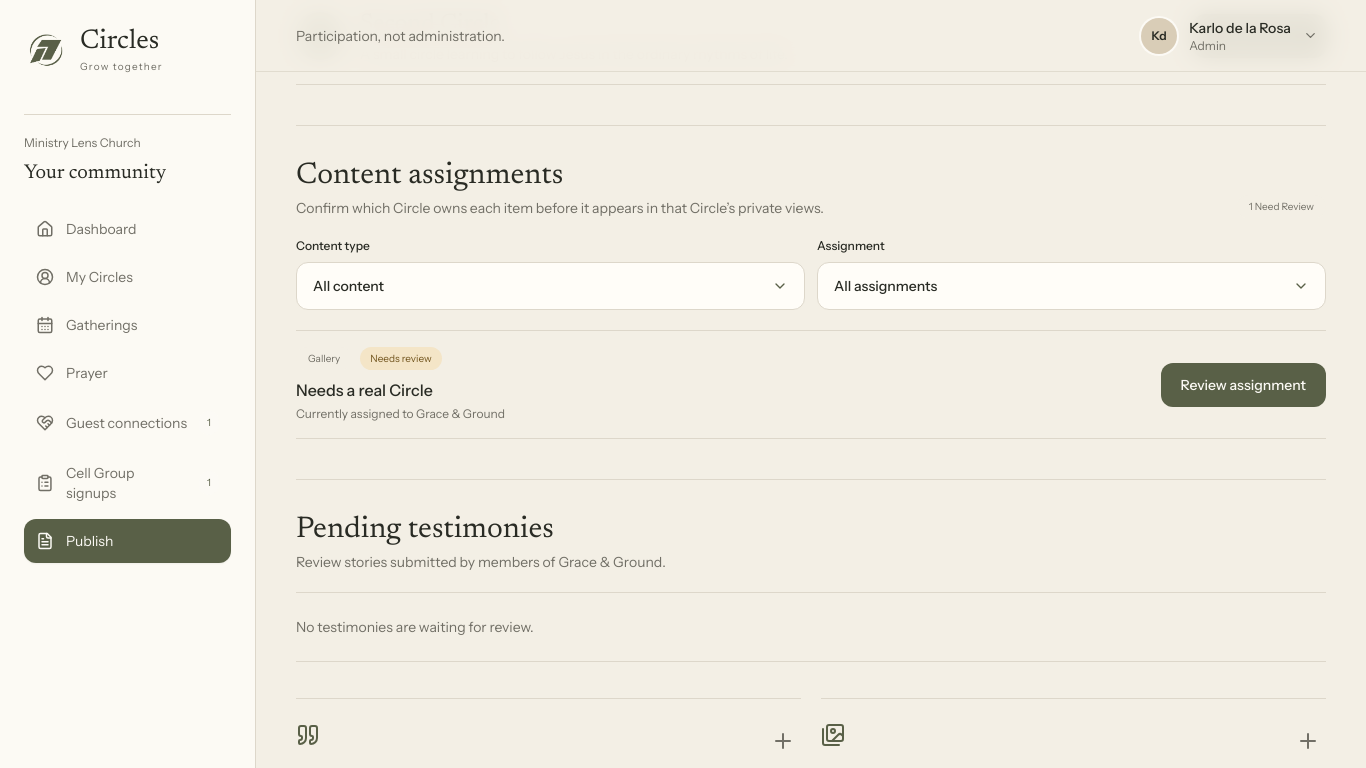
Scenario: Circles MVP › shows admins an assignment review queue and explicit publishing destination
(page scrolled)
Check: the heading "Content assignments" is shown, box [296,161,563,191]
Check: the heading "Needs a real Circle" is shown, box [296,380,433,400]
Click the button "Review assignment". click: [1243, 384]
box: [1161,362,1326,406]
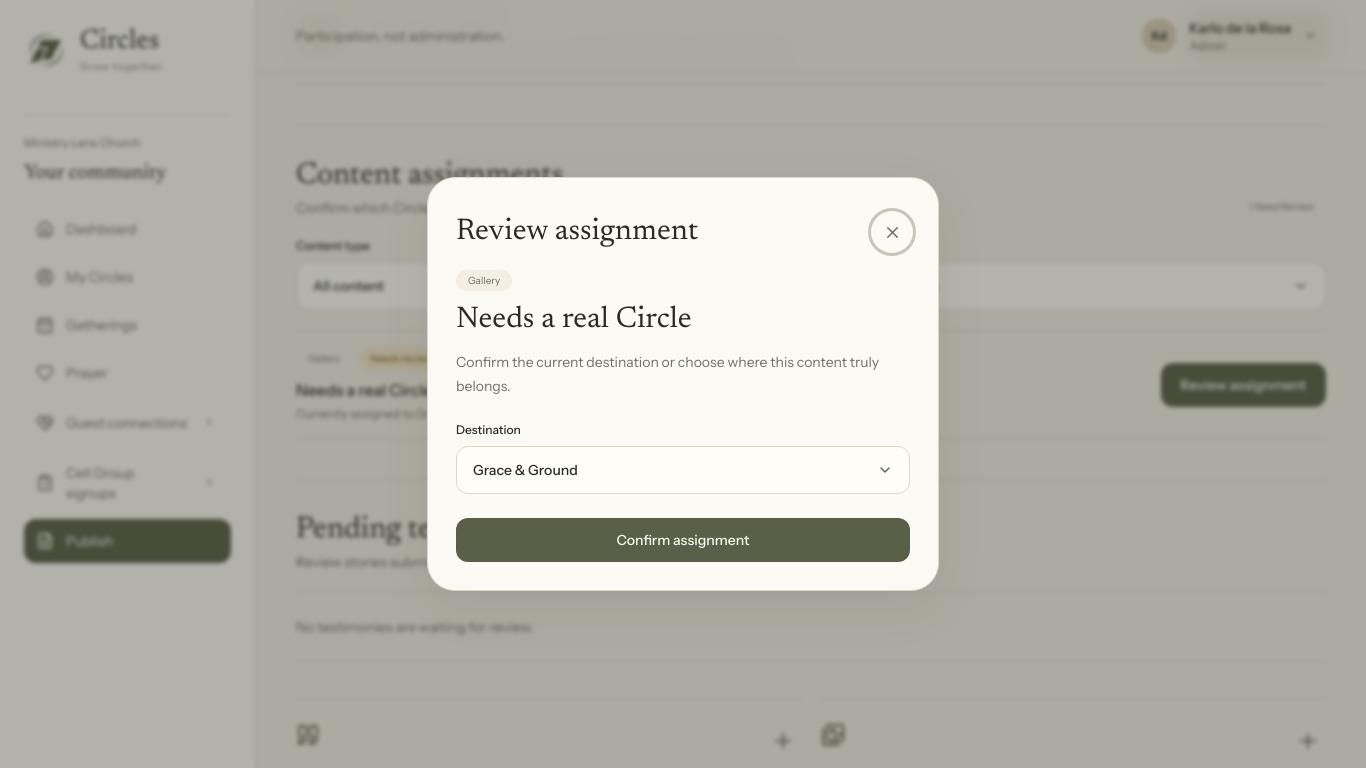
Check: the heading "Review assignment" is shown, box [456,214,698,250]
Click the button named "Close". click: [892, 232]
box: [874,214,910,250]
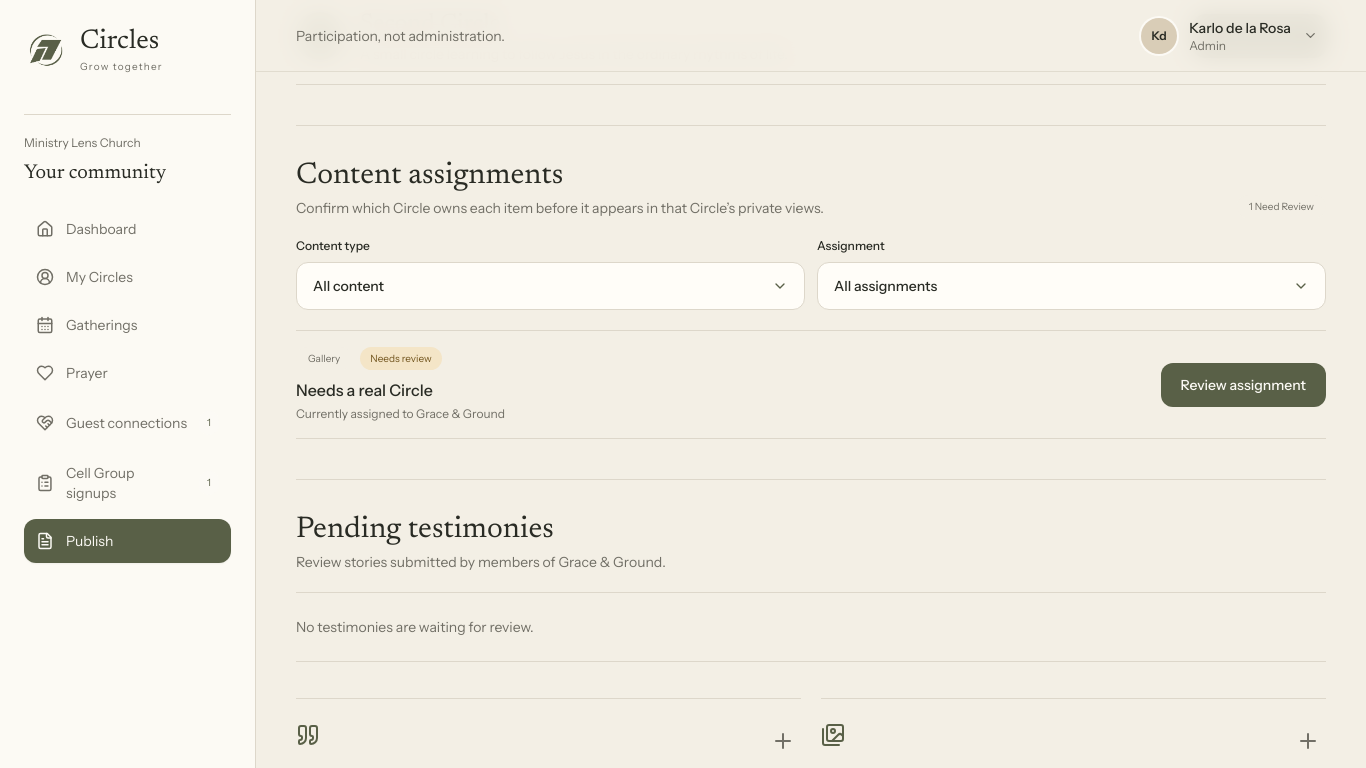
Click the button named "Add Galleries". click: [1308, 741]
box: [1290,723,1326,759]
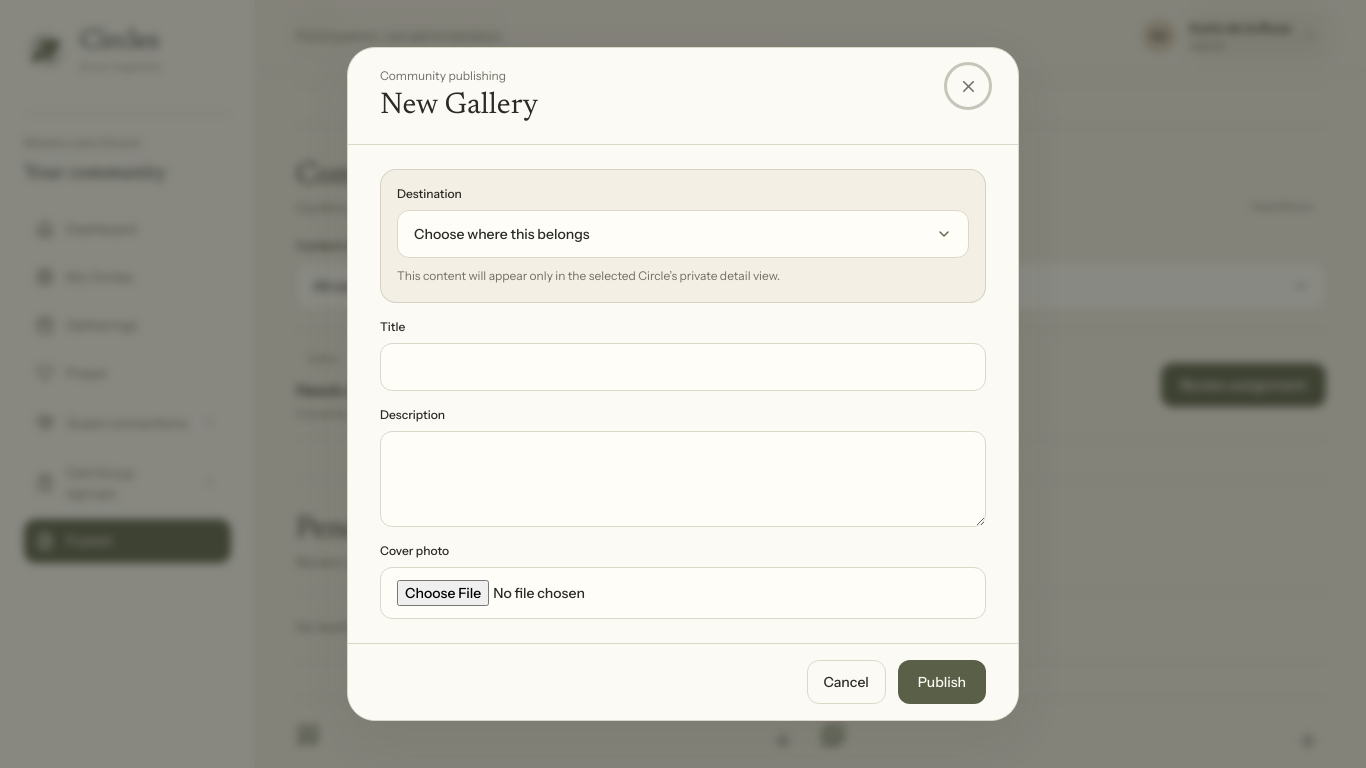
Check: the dropdown labelled "Destination" shows "Choose where this belongs", box [397,210,969,258]
